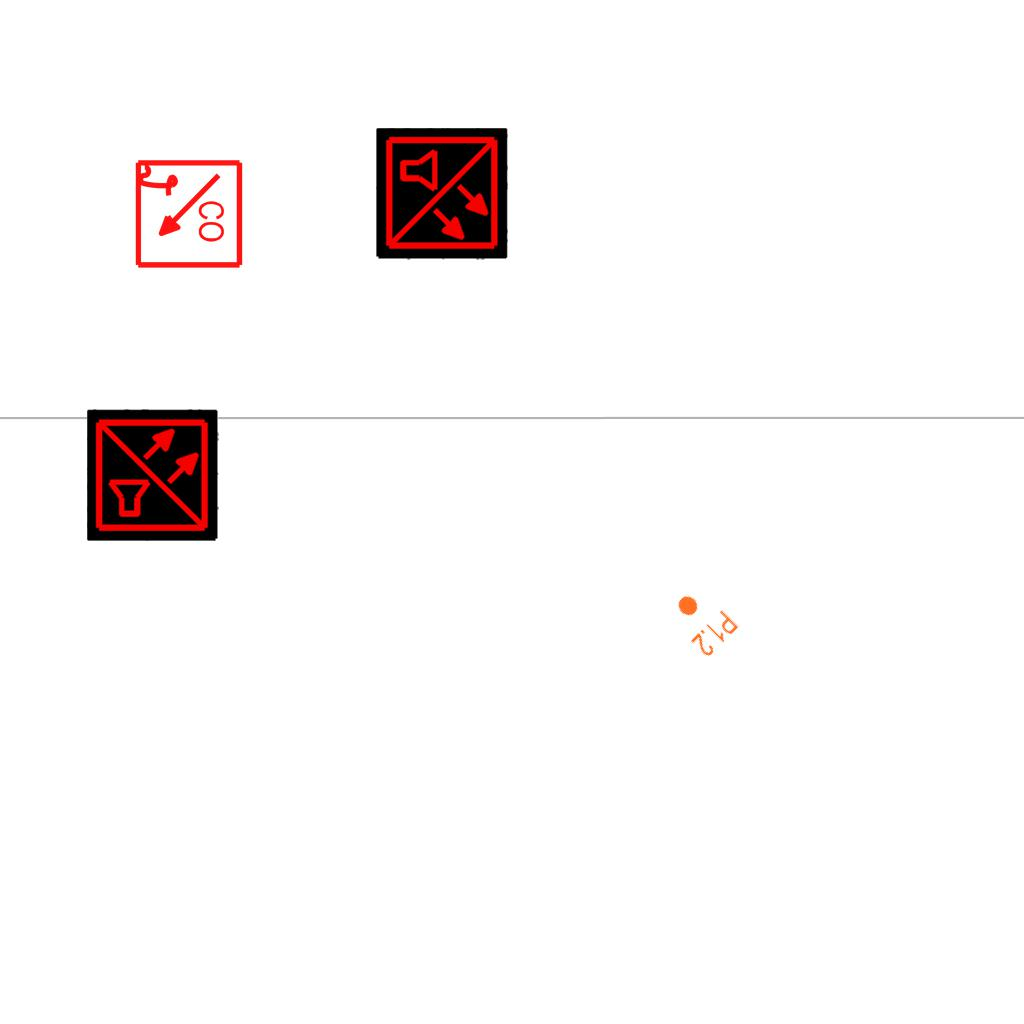Downlight_LED_Einbauleuchten_Flur: (663, 582, 741, 660)
OKW_Multisensormelder_(Kombination_optischer_Rauch-Kahlenmonoxid_Waerme-Melder): (87, 409, 219, 541), (376, 128, 508, 260)
ROA_Rauchmelder_optisch_mit_Signalgeber_(Sockelsirene): (131, 158, 244, 271)
